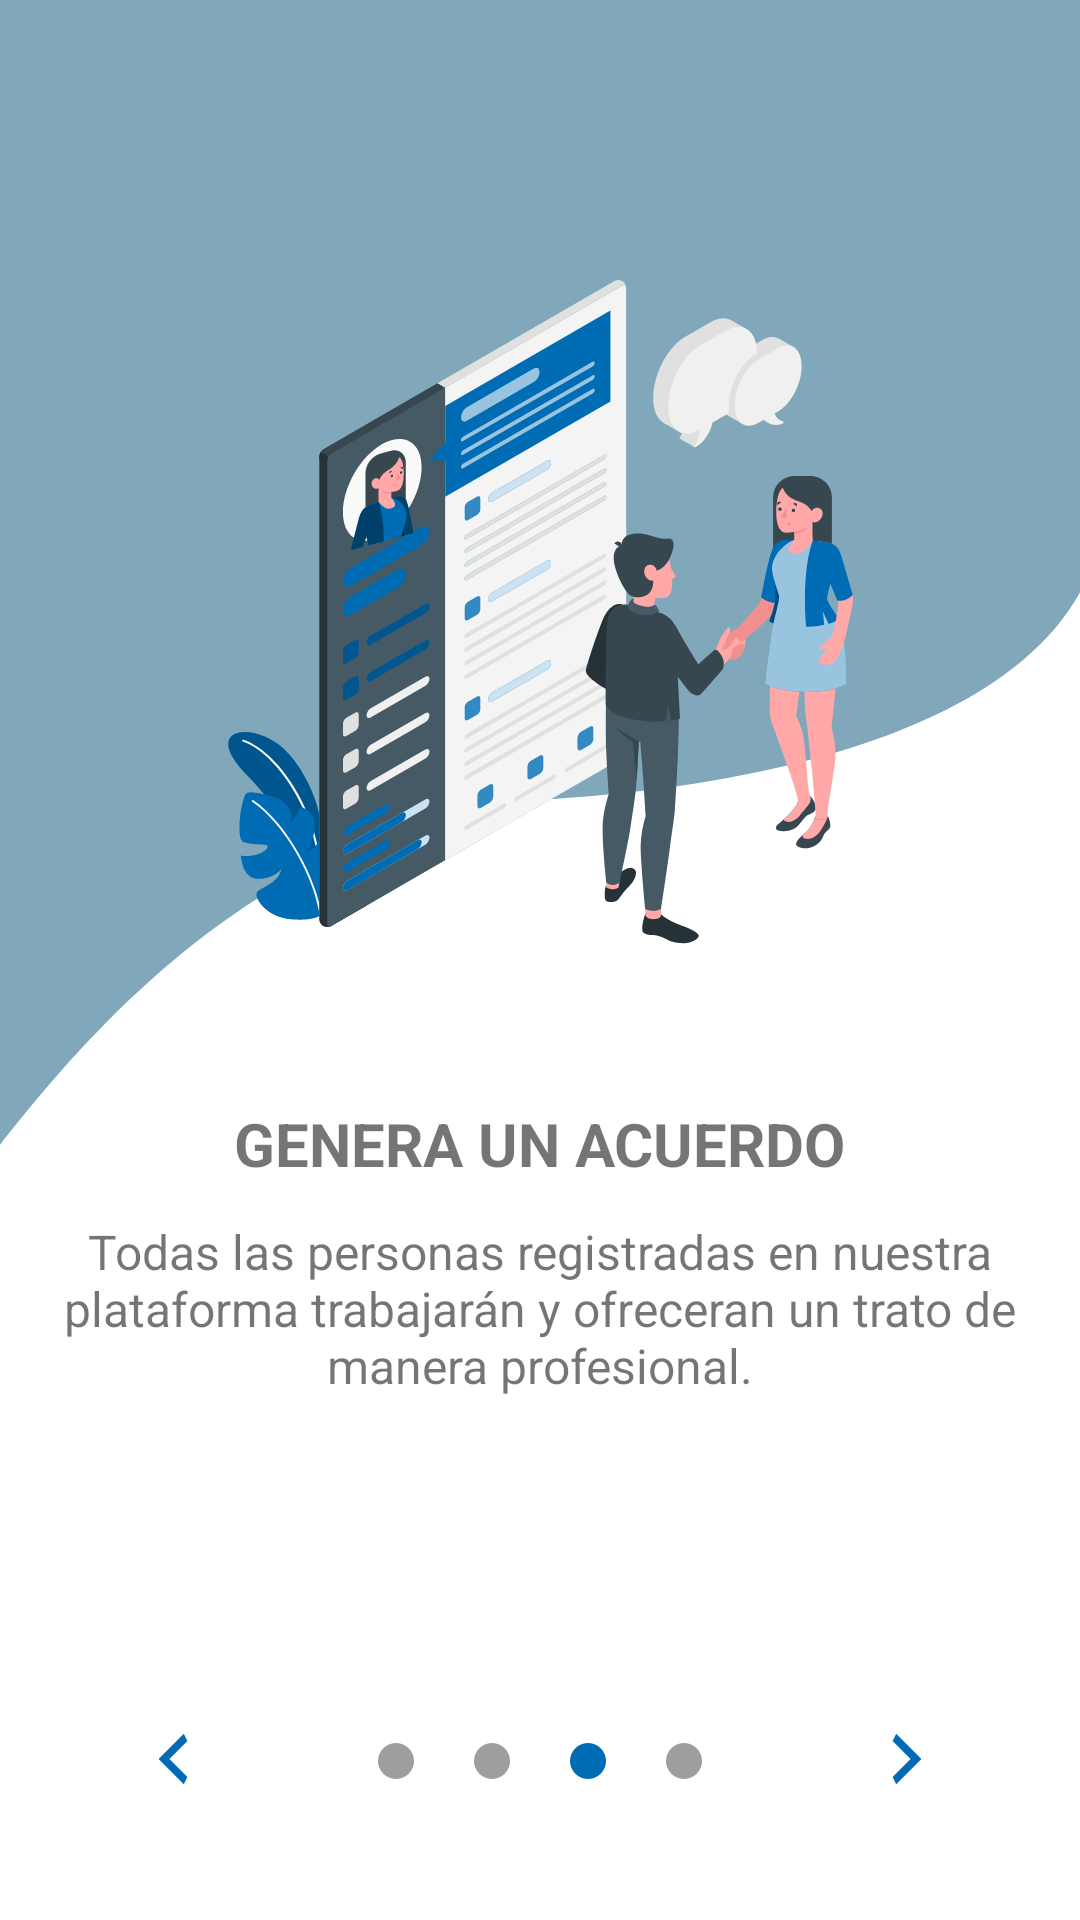

Where to tap for icons on this 1080 × 1920 app screen, as [x,y]:
flecha adelante: [906,1759]
left: [173,1759]
